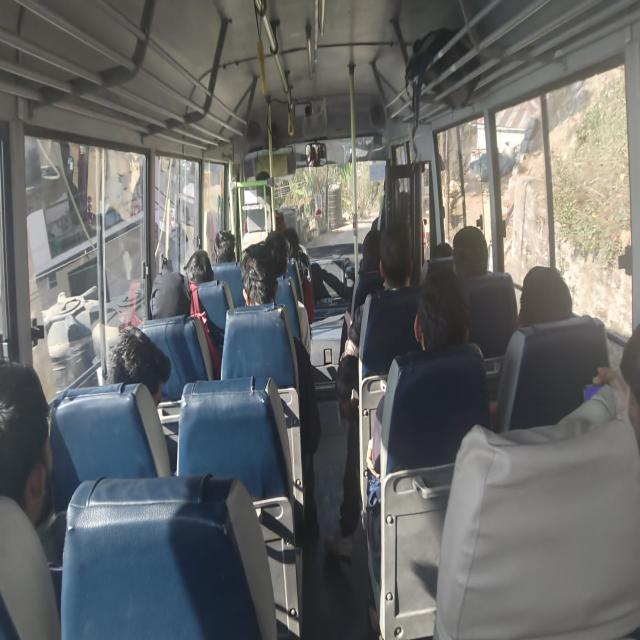person: (433, 322, 639, 638), (365, 264, 492, 635), (324, 220, 416, 561), (239, 242, 321, 536), (0, 358, 62, 638), (106, 326, 178, 476), (150, 268, 222, 379), (106, 324, 171, 408), (517, 264, 573, 328), (240, 242, 278, 306), (149, 269, 192, 319), (452, 224, 488, 276), (264, 230, 289, 278), (183, 249, 214, 283), (213, 230, 236, 264)
